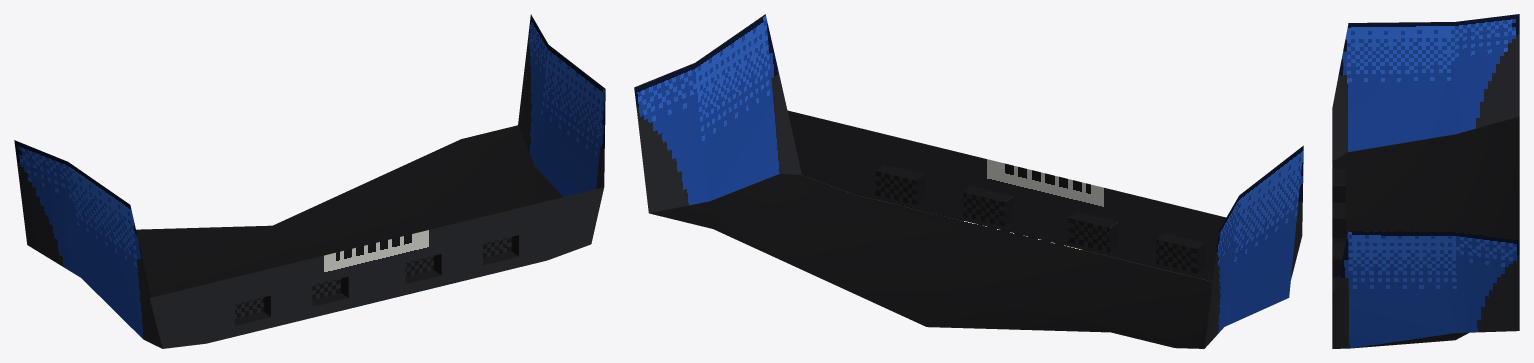
File: bumper_R_diffuser.glb
3 views of the same model, side by side, from view 1: azimuth 30°, elevation 25°; view 2: azimuth 150°, elevation 25°; view 3: azimuth 270°, elevation 25° (orthographic). The views are drawn at different scales.
Visible parts, largest first — view 1: bumper_R_diffuser; view 2: bumper_R_diffuser; view 3: bumper_R_diffuser.
Part boxes in pixels (x1,y1,x2,y2): bumper_R_diffuser: (14,14,605,348); bumper_R_diffuser: (634,14,1303,348); bumper_R_diffuser: (1332,14,1519,348).
Bounding box in the file's own units: 2 × 0.55 × 0.7.
1 material, 1 textured.
